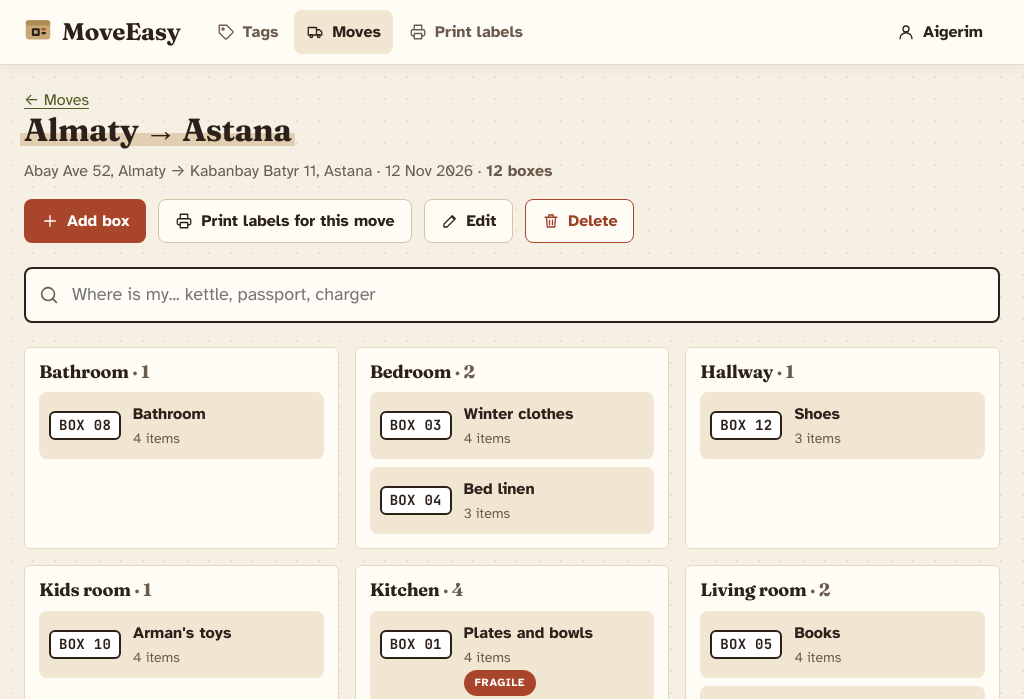
Test: move search › finds the kettle with box, room and highlighted item
In the search field labelled "Where is my...": (512, 295) [24,267,1000,323], type "kettle"
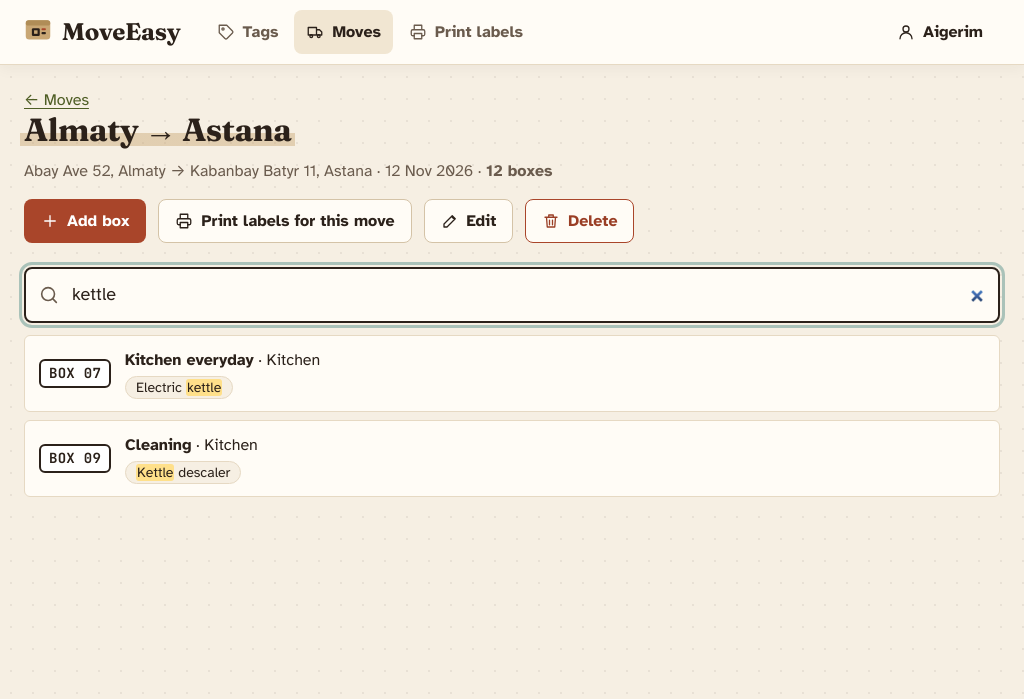
expect the text "BOX 07" is shown: met, box [39,359,111,388]
expect the text "kettle" is shown: met, box [186,379,222,396]
